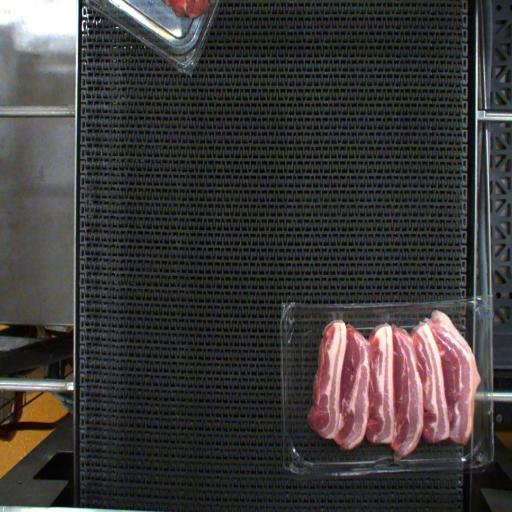packaging-error: (323, 303, 347, 326), (391, 458, 408, 473)
